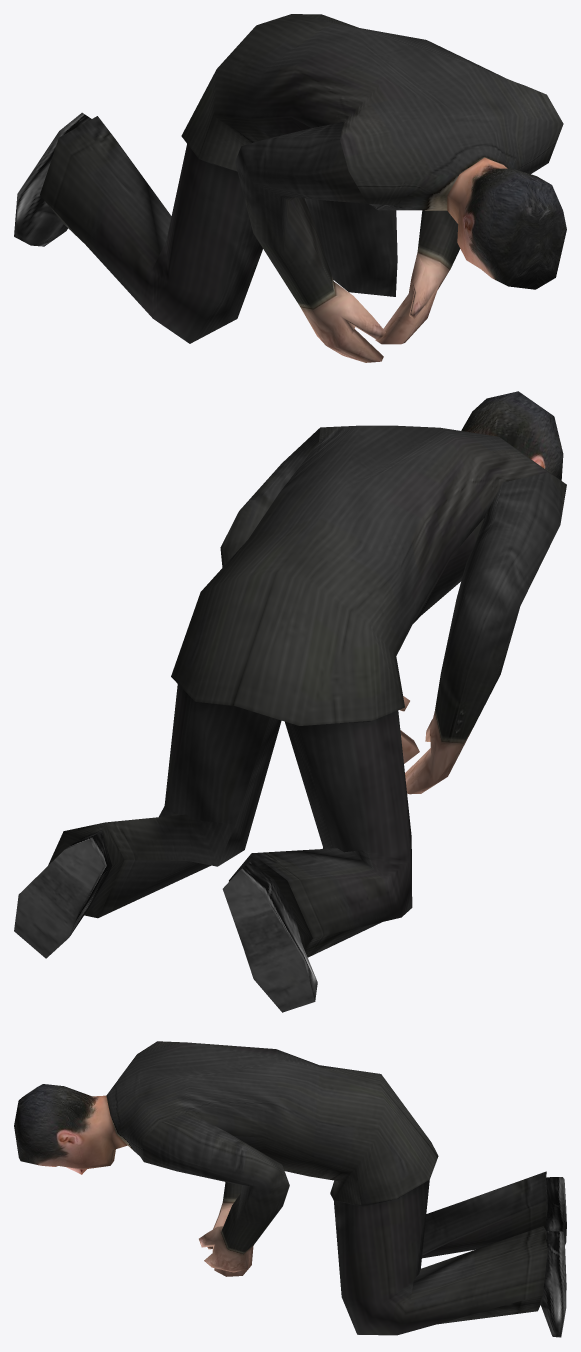
Rendered from Man01_3.glb.
The picture shows the model from 3 angles, top to bottom: view 1: azimuth 30°, elevation 25°; view 2: azimuth 150°, elevation 25°; view 3: azimuth 270°, elevation 25°; orthographic projection. The views are drawn at different scales.
Visible parts, largest first — view 1: business02_m_lowpoly_网格_business02_m_lowpoly_网格mesh; view 2: business02_m_lowpoly_网格_business02_m_lowpoly_网格mesh; view 3: business02_m_lowpoly_网格_business02_m_lowpoly_网格mesh.
Part boxes in pixels (left/top/right/bottom): business02_m_lowpoly_网格_business02_m_lowpoly_网格mesh: left=14, top=14, right=566, bottom=362; business02_m_lowpoly_网格_business02_m_lowpoly_网格mesh: left=14, top=391, right=566, bottom=1012; business02_m_lowpoly_网格_business02_m_lowpoly_网格mesh: left=14, top=1041, right=566, bottom=1337.
Size of the model in its own units: 0.6104 by 0.6754 by 1.37.
Materials: 1 (1 with a texture image).
